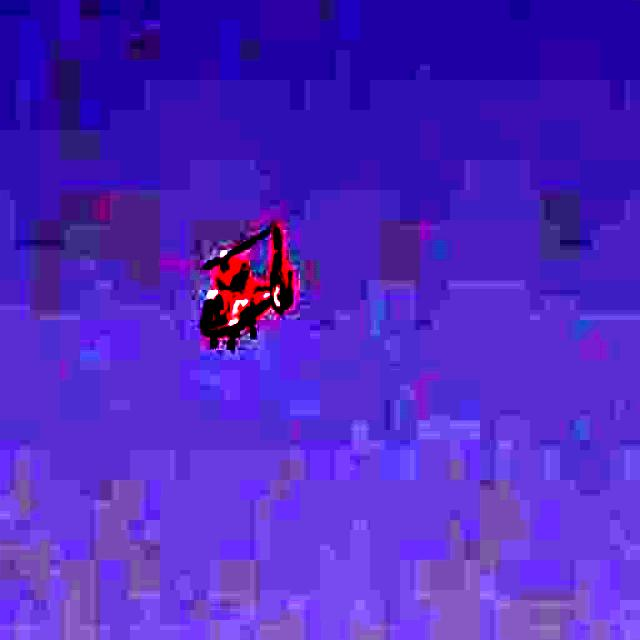drone: (135, 180, 361, 380)
